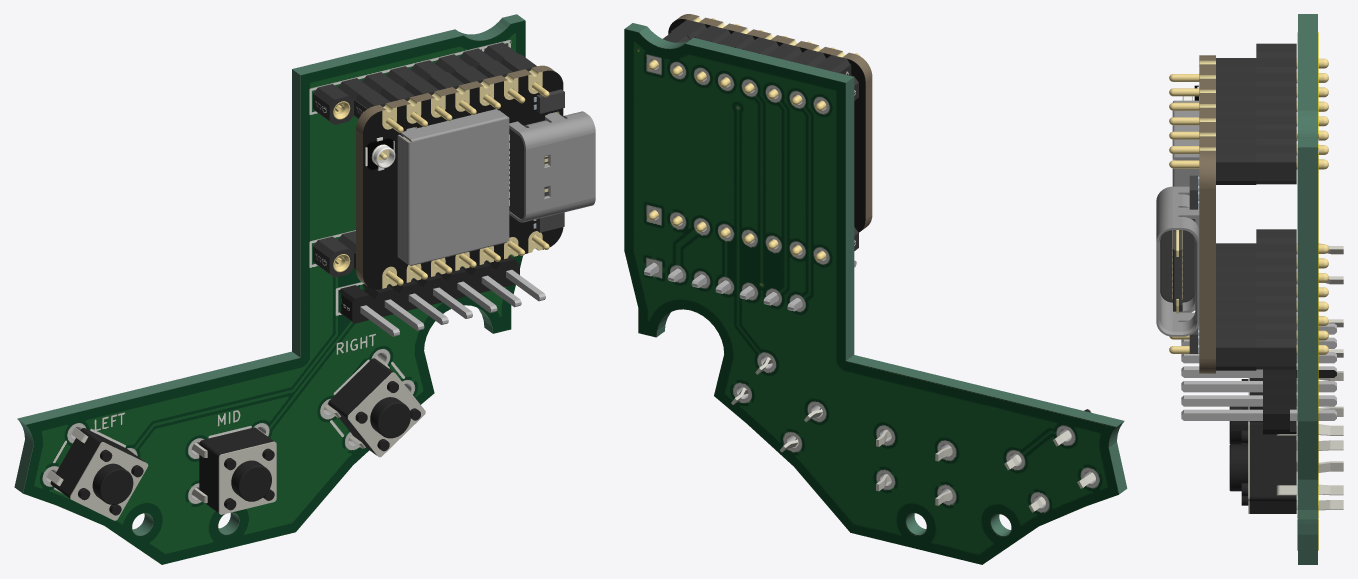
File: assembly.glb
The picture shows the model from 3 angles, left to right: view 1: azimuth 30°, elevation 25°; view 2: azimuth 150°, elevation 25°; view 3: azimuth 270°, elevation 25°; orthographic projection. The views are drawn at different scales.
Parts seen in each view (by area): view 1: pet-keys_PCB top surface texture overlay, o1.2.1.1.2, o1.2.1.1.6, o1.15, o1.7.1, o1.2.1.1.1.1.19, o1.5.1, o1.8.1, o1.4.1, o1.3.1, o1.1.1, o1.9.1 (+3 smaller); view 2: pet-keys_PCB bottom surface texture overlay, o1.15, o1.2.1.1.6, o1.1.1, o1.13, o1.9.1, o1.3.1, o1.7.1, o1.11.1, o1.4.1, o1.5.1; view 3: o1.15, o1.7.1, o1.3.1, o1.11.1, o1.8.1, o1.2.1.1.6, o1.1.1, o1.2.1.1.1.1.19, o1.6.1, o1.9.1, o1.2.1.1.1.1.23, o1.10.1 (+6 smaller).
Boxes of the visible parts, left/top/right/bottom form: pet-keys_PCB top surface texture overlay: left=23, top=20, right=525, bottom=564; o1.2.1.1.2: left=397, top=109, right=509, bottom=265; o1.2.1.1.6: left=356, top=65, right=563, bottom=289; o1.15: left=14, top=14, right=524, bottom=535; o1.7.1: left=339, top=255, right=545, bottom=336; o1.2.1.1.1.1.19: left=509, top=111, right=595, bottom=222; o1.5.1: left=191, top=427, right=276, bottom=514; o1.8.1: left=324, top=355, right=425, bottom=457; o1.4.1: left=46, top=427, right=148, bottom=520; o1.3.1: left=313, top=42, right=518, bottom=124; o1.1.1: left=427, top=54, right=549, bottom=115; o1.9.1: left=354, top=78, right=452, bottom=132; pet-keys_PCB bottom surface texture overlay: left=624, top=29, right=1118, bottom=564; o1.15: left=625, top=23, right=1127, bottom=536; o1.2.1.1.6: left=668, top=14, right=872, bottom=232; o1.1.1: left=668, top=18, right=787, bottom=55; o1.13: left=649, top=59, right=1096, bottom=508; o1.9.1: left=767, top=41, right=859, bottom=75; o1.3.1: left=648, top=32, right=858, bottom=110; o1.7.1: left=644, top=260, right=856, bottom=311; o1.11.1: left=648, top=210, right=858, bottom=261; o1.4.1: left=1004, top=409, right=1095, bottom=512; o1.5.1: left=876, top=430, right=952, bottom=505; o1.15: left=1298, top=14, right=1317, bottom=564; o1.7.1: left=1181, top=323, right=1336, bottom=434; o1.3.1: left=1256, top=43, right=1328, bottom=184; o1.11.1: left=1256, top=229, right=1328, bottom=369; o1.8.1: left=1229, top=421, right=1343, bottom=513; o1.2.1.1.6: left=1199, top=55, right=1215, bottom=373; o1.1.1: left=1169, top=100, right=1256, bottom=184; o1.2.1.1.1.1.19: left=1156, top=186, right=1199, bottom=336; o1.6.1: left=1169, top=286, right=1256, bottom=370; o1.9.1: left=1169, top=58, right=1256, bottom=110; o1.2.1.1.1.1.23: left=1160, top=199, right=1199, bottom=302; o1.10.1: left=1216, top=243, right=1256, bottom=285.
Bounding box in the file's own units: 0.0538 × 0.0455 × 0.014.
20 materials, 2 textured.
